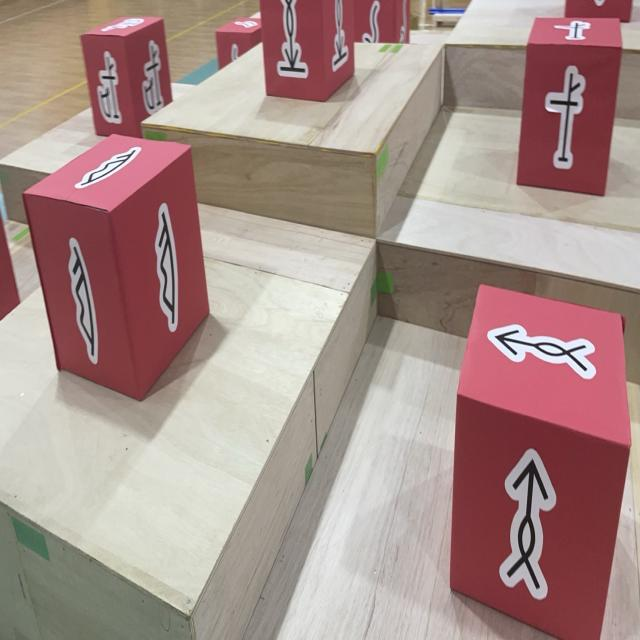11: (68, 237, 99, 364), (154, 202, 178, 332), (75, 146, 142, 190)
12: (500, 447, 558, 602), (487, 322, 597, 379)
13: (362, 0, 380, 43), (399, 0, 407, 44)
5: (96, 51, 122, 124), (142, 39, 164, 117)
7: (276, 0, 308, 79), (332, 0, 348, 73)
9: (546, 64, 586, 168), (554, 20, 590, 40)
fighter: (449, 284, 631, 640), (22, 133, 210, 402), (516, 17, 622, 195), (80, 14, 172, 139), (260, 0, 354, 101), (216, 16, 262, 70), (355, 0, 410, 45), (0, 207, 21, 320), (564, 0, 632, 24)
